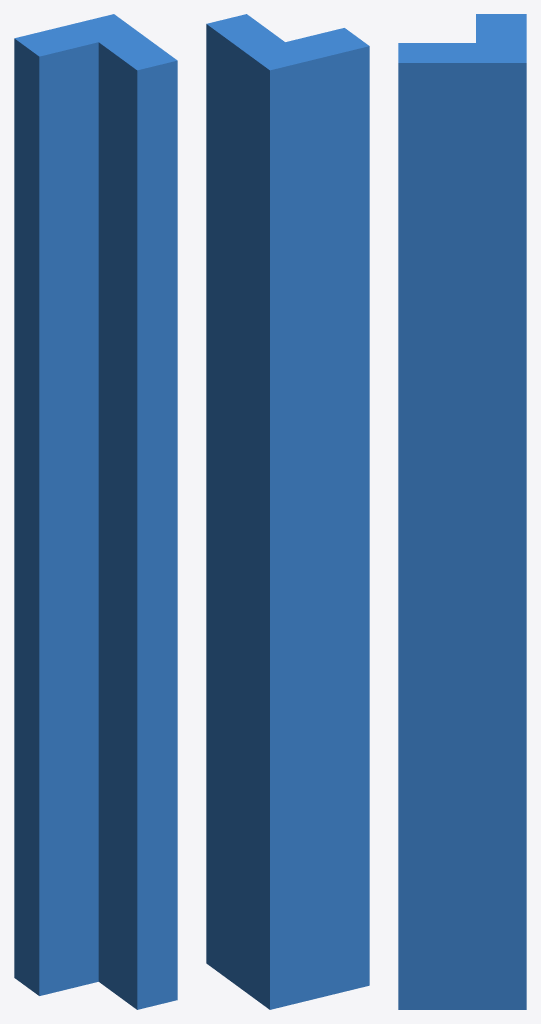
Rendered from Collision_Corner_Interior_Big.fbx.
3 renders of one model, left to right at view 1: azimuth 30°, elevation 25°; view 2: azimuth 210°, elevation 25°; view 3: azimuth 270°, elevation 25°, orthographic.
Parts seen in each view (by area): view 1: UCX_Corner_Interior_Big_1; view 2: UCX_Corner_Interior_Big_1; view 3: UCX_Corner_Interior_Big_1.
Boxes of the visible parts, bbox=[...] form: UCX_Corner_Interior_Big_1: bbox=[14, 14, 177, 1009]; UCX_Corner_Interior_Big_1: bbox=[206, 14, 369, 1009]; UCX_Corner_Interior_Big_1: bbox=[398, 14, 526, 1009].
Size of the model in its own units: 33.31 by 300 by 36.81.
